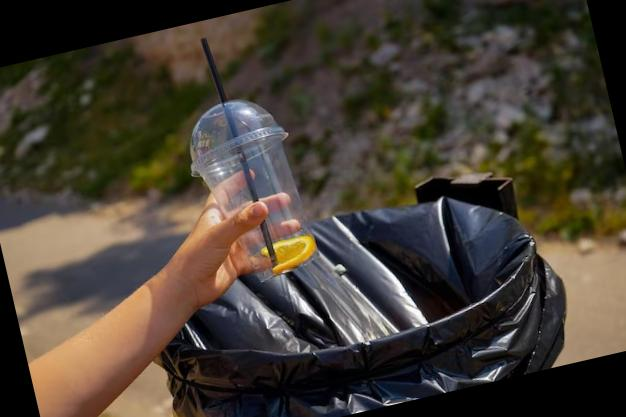Plastik: (190, 99, 315, 273)
